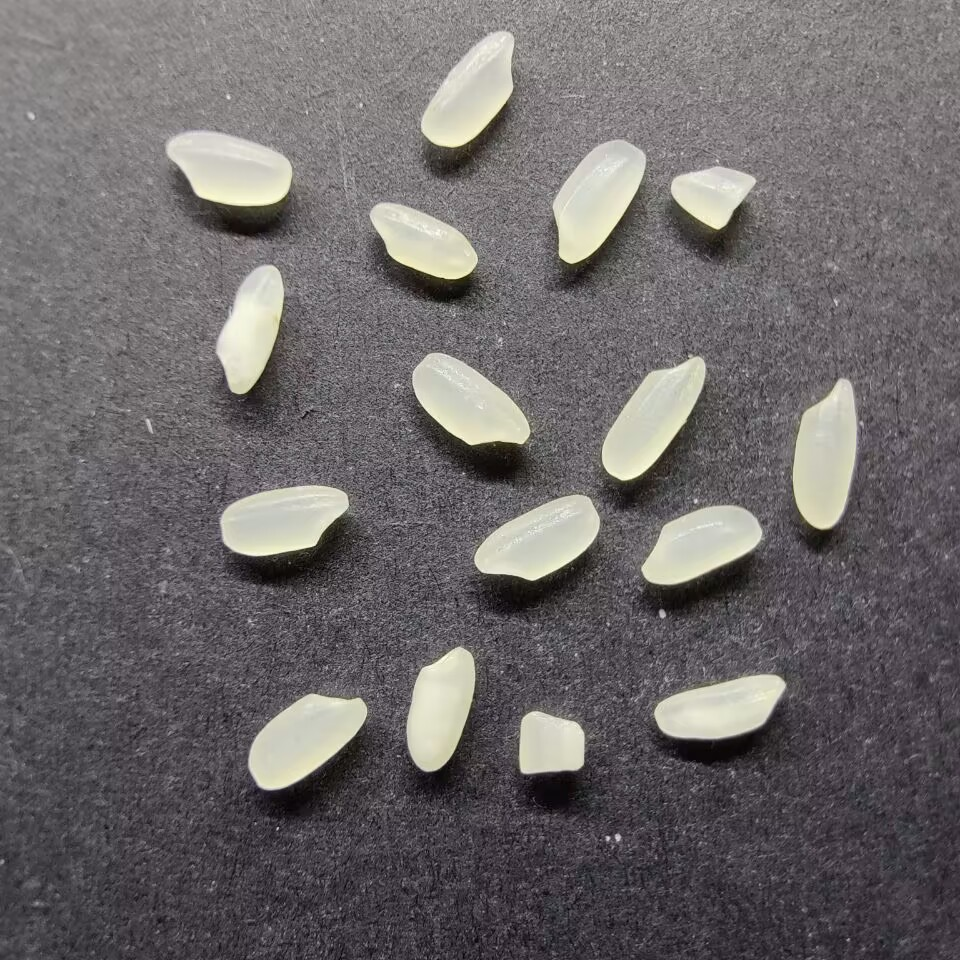broken: (668, 165, 758, 230), (514, 708, 587, 777)
rice: (599, 354, 707, 482), (245, 692, 369, 792), (551, 140, 648, 264), (411, 349, 530, 449), (471, 492, 601, 582), (419, 29, 515, 147), (790, 376, 858, 532), (161, 130, 293, 207), (640, 503, 762, 585), (217, 485, 349, 557), (403, 644, 476, 774), (215, 263, 284, 396), (654, 674, 786, 741), (368, 202, 480, 279)
